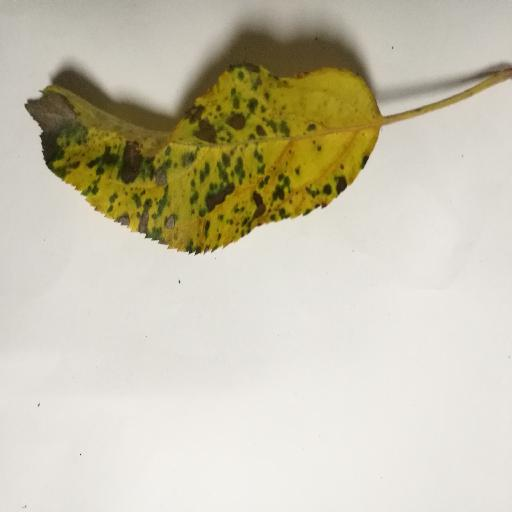Brown_Spot: (19, 32, 389, 276)
